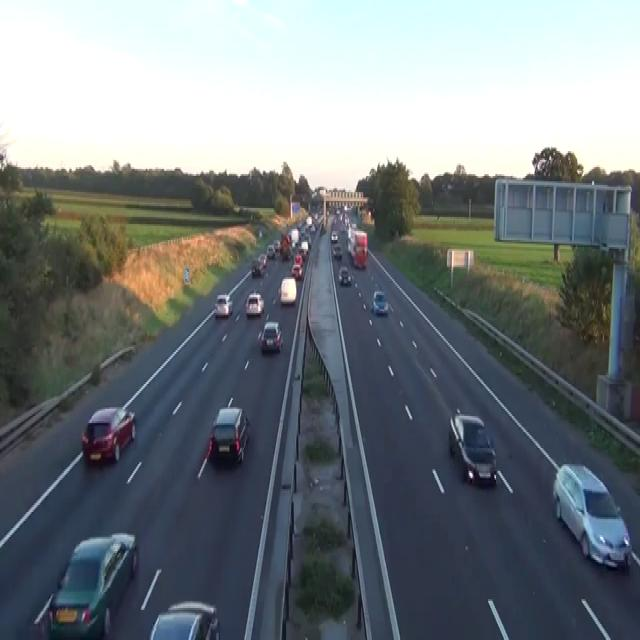Car: (45, 532, 137, 638), (552, 462, 632, 569), (448, 407, 497, 487), (81, 405, 136, 464), (148, 599, 220, 638), (208, 400, 250, 464), (32, 592, 54, 638), (258, 320, 283, 352), (278, 277, 296, 304), (213, 294, 233, 318), (245, 292, 264, 316), (371, 290, 388, 314), (353, 247, 367, 269), (338, 265, 351, 284), (251, 258, 263, 276), (291, 263, 303, 279), (331, 243, 342, 260), (266, 244, 275, 258), (258, 252, 267, 266), (297, 247, 306, 261), (294, 252, 303, 265), (300, 240, 309, 252), (330, 229, 338, 242), (273, 238, 280, 251), (319, 222, 326, 235), (349, 222, 357, 231), (306, 215, 312, 226), (309, 222, 316, 231), (340, 222, 346, 231), (259, 228, 262, 236)
Truck: (347, 226, 368, 268)
